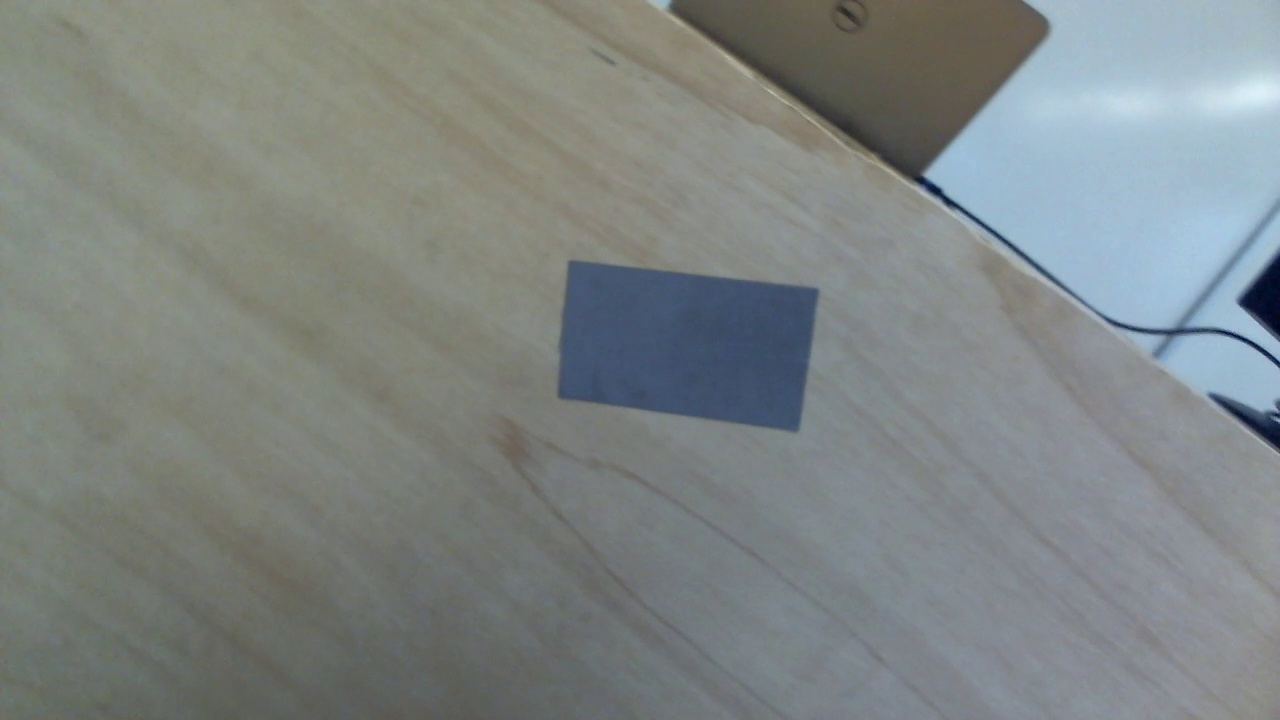Tape: (557, 260, 819, 431)
